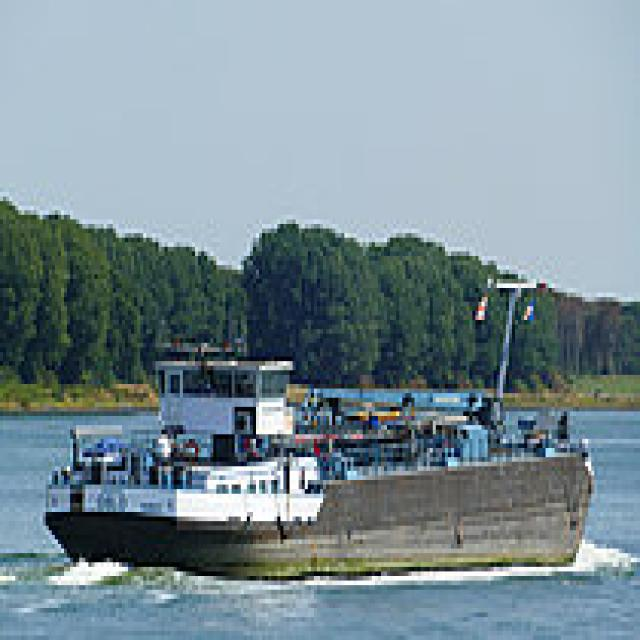Tanker: (37, 265, 594, 581)
